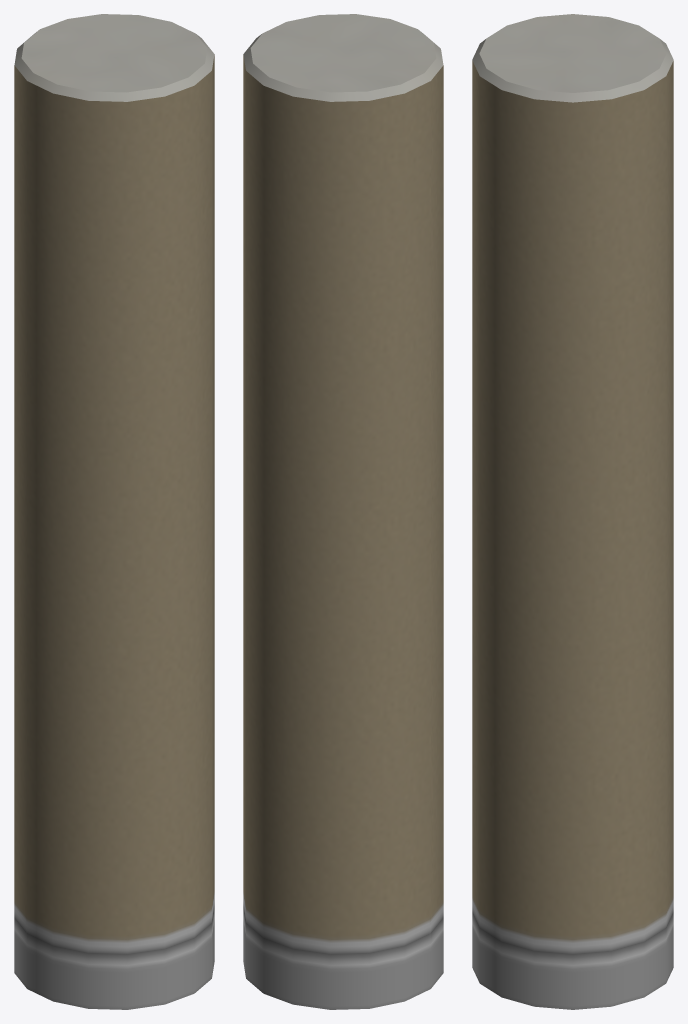
The model's file is column1_1.fbx.
The picture shows the model from 3 angles, left to right: view 1: azimuth 30°, elevation 25°; view 2: azimuth 150°, elevation 25°; view 3: azimuth 270°, elevation 25°; orthographic projection.
Parts seen in each view (by area): view 1: column1_a; view 2: column1_a; view 3: column1_a.
Part boxes in pixels (x1=…): column1_a: x1=14, y1=14, x2=214, y2=1009; column1_a: x1=243, y1=14, x2=443, y2=1009; column1_a: x1=472, y1=14, x2=673, y2=1009.
Bounding box in the file's own units: 80 × 400 × 80.
